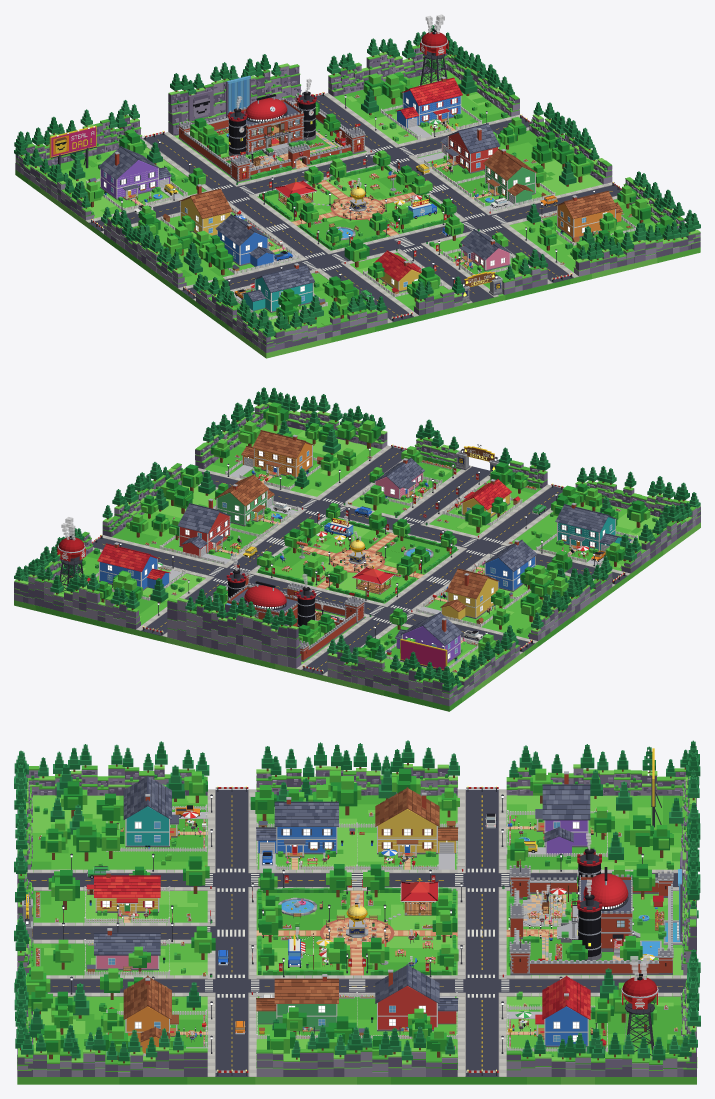
Rendered from GrillDadDistrict.fbx.
3 renders of one model, top to bottom at view 1: azimuth 30°, elevation 25°; view 2: azimuth 150°, elevation 25°; view 3: azimuth 270°, elevation 25°, orthographic. The views are drawn at different scales.
Visible parts, largest first — view 1: Roads_Asphalt_2_2_00, Roads_Asphalt_2_1_00, Roads_Asphalt_2_0_00, Roads_Asphalt_1_2_00, Cliffs_PineB_3_0_00, Cliffs_Pine_3_0_00, Roads_Asphalt_1_3_00, Cliffs_Pine_0_3_00, Cliffs_PineB_0_0_00, Cliffs_RockB_1_3_00, Cliffs_RockB_0_0_00, Cliffs_Pine_3_3_00 (+67 smaller); view 2: Roads_Asphalt_2_2_00, Roads_Asphalt_2_0_00, Roads_Asphalt_2_1_00, Roads_Asphalt_1_2_00, Cliffs_Pine_0_3_00, Cliffs_Pine_3_0_00, Roads_Asphalt_1_0_00, Cliffs_PineB_3_0_00, Cliffs_PineB_0_0_00, Cliffs_Rock_0_3_00, Cliffs_RockB_0_3_00, Cliffs_Rock_1_3_00 (+75 smaller); view 3: Roads_Asphalt_2_2_00, Roads_Asphalt_2_1_00, Roads_Asphalt_2_0_00, Terrain_Grass_1_0_00, Terrain_Grass_0_3_00, Terrain_Grass_0_0_00, Terrain_GrassB_3_3_00, Cliffs_Pine_3_3_00, Roads_Asphalt_1_2_00, Terrain_Grass_3_3_00, Terrain_GrassB_1_1_00, Cliffs_PineB_3_0_00 (+170 smaller).
Part boxes in pixels (box(x1,y1,x2,y2)): Roads_Asphalt_2_2_00: box(89, 117, 530, 231); Roads_Asphalt_2_1_00: box(181, 185, 621, 298); Roads_Asphalt_2_0_00: box(400, 224, 573, 302); Roads_Asphalt_1_2_00: box(228, 196, 328, 259); Cliffs_PineB_3_0_00: box(587, 171, 700, 258); Cliffs_Pine_3_0_00: box(586, 171, 698, 259); Roads_Asphalt_1_3_00: box(143, 133, 235, 190); Cliffs_Pine_0_3_00: box(14, 110, 126, 200); Cliffs_PineB_0_0_00: box(208, 277, 376, 337); Cliffs_RockB_1_3_00: box(125, 76, 250, 135); Cliffs_RockB_0_0_00: box(200, 296, 377, 348); Cliffs_Pine_3_3_00: box(340, 25, 514, 96); Roads_Asphalt_2_2_00: box(92, 509, 534, 652); Roads_Asphalt_2_0_00: box(319, 447, 489, 524); Roads_Asphalt_2_1_00: box(202, 472, 626, 584); Roads_Asphalt_1_2_00: box(387, 548, 487, 612); Cliffs_Pine_0_3_00: box(340, 639, 512, 690); Cliffs_Pine_3_0_00: box(206, 388, 376, 435); Roads_Asphalt_1_0_00: box(480, 486, 562, 544); Cliffs_PineB_3_0_00: box(203, 387, 376, 441); Cliffs_PineB_0_0_00: box(587, 466, 700, 542); Cliffs_Rock_0_3_00: box(343, 658, 510, 706); Cliffs_RockB_0_3_00: box(343, 651, 510, 696); Cliffs_Rock_1_3_00: box(236, 615, 345, 680); Roads_Asphalt_2_2_00: box(248, 789, 498, 1076); Roads_Asphalt_2_1_00: box(215, 789, 248, 1076); Roads_Asphalt_2_0_00: box(32, 926, 215, 992); Terrain_Grass_1_0_00: box(17, 861, 187, 925); Terrain_Grass_0_3_00: box(527, 791, 682, 861); Terrain_Grass_0_0_00: box(31, 795, 187, 861); Terrain_GrassB_3_3_00: box(529, 1004, 682, 1053); Cliffs_Pine_3_3_00: box(522, 960, 699, 1060); Roads_Asphalt_1_2_00: box(248, 873, 465, 886); Terrain_Grass_3_3_00: box(527, 1019, 696, 1084); Terrain_GrassB_1_1_00: box(256, 891, 350, 932); Cliffs_PineB_3_0_00: box(14, 966, 183, 1059).
Size of the model in its own units: 505 by 85.55 by 505.
